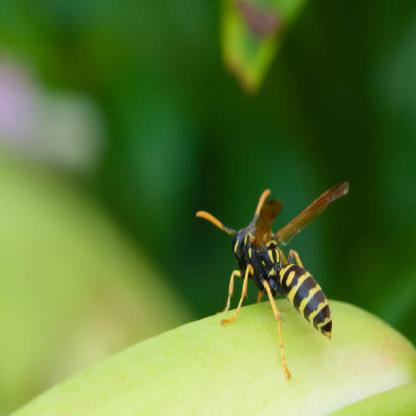sawfly: (195, 178, 356, 388)
